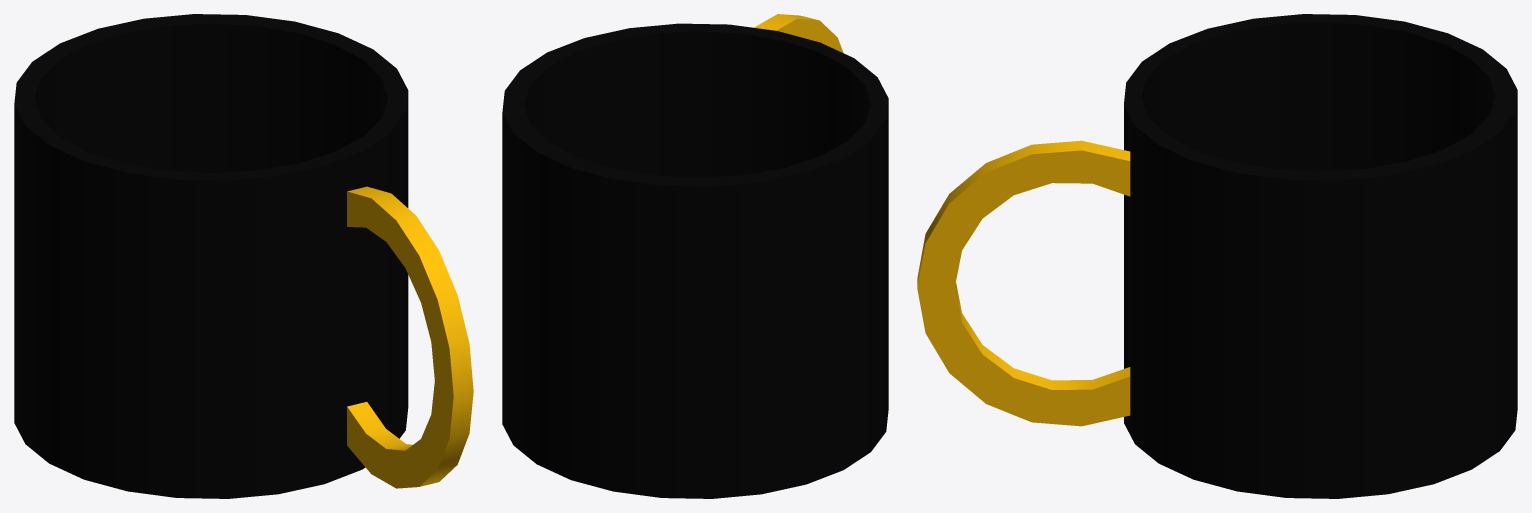
File: mug_06_origin_gt_1.dae
The picture shows the model from 3 angles, left to right: view 1: azimuth 30°, elevation 25°; view 2: azimuth 150°, elevation 25°; view 3: azimuth 270°, elevation 25°; orthographic projection. The views are drawn at different scales.
Visible parts, largest first — view 1: SketchUp (×3); view 2: SketchUp (×3); view 3: SketchUp (×3).
Boxes of the visible parts, <box> form: SketchUp (×3): <box>14,14,473,498</box>; SketchUp (×3): <box>502,14,888,498</box>; SketchUp (×3): <box>917,14,1517,498</box>.
Bounding box in the file's own units: 4.37 × 6.66 × 3.9.
